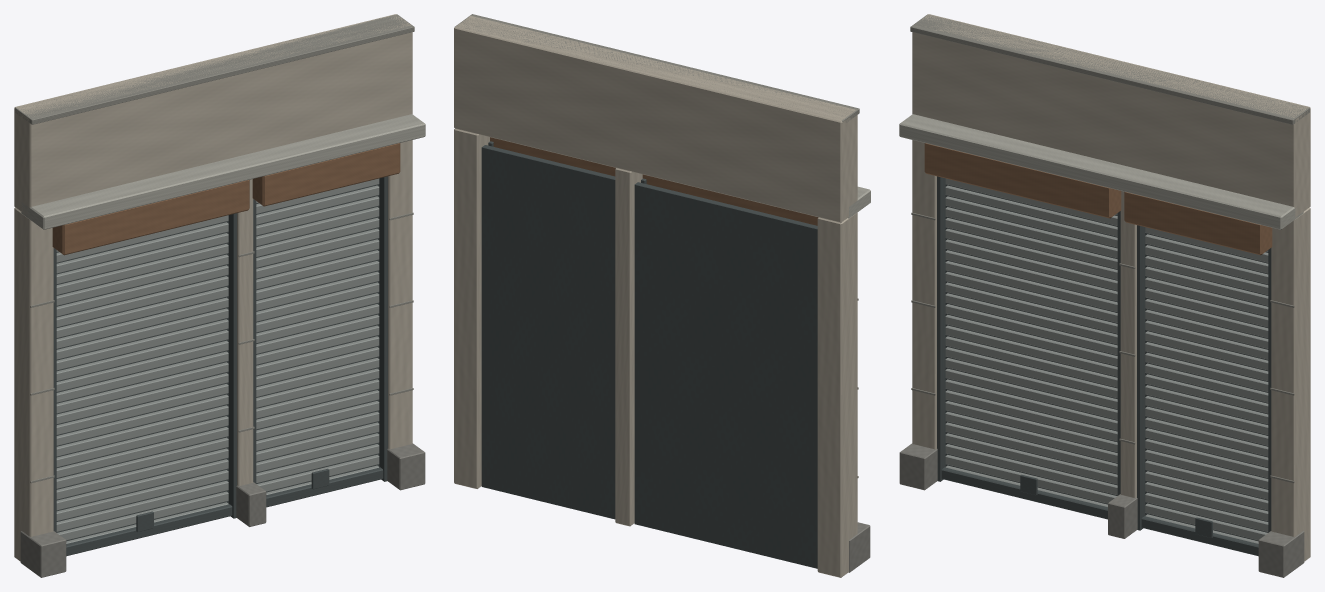
File: F03_ShutteredStore_visual.glb
3 renders of one model, left to right at view 1: azimuth 30°, elevation 25°; view 2: azimuth 150°, elevation 25°; view 3: azimuth 330°, elevation 25°, orthographic.
Visible parts, largest first — view 1: F03_ShutteredStore__VIS; view 2: F03_ShutteredStore__VIS; view 3: F03_ShutteredStore__VIS.
Part boxes in pixels (left/top/right/bottom): F03_ShutteredStore__VIS: left=14, top=14, right=425, bottom=577; F03_ShutteredStore__VIS: left=454, top=14, right=870, bottom=577; F03_ShutteredStore__VIS: left=899, top=14, right=1310, bottom=577.
Bounding box in the file's own units: 16.08 × 18 × 2.16.
Materials: 1 (1 with a texture image).
